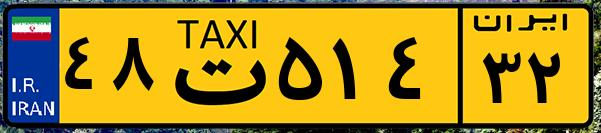1: (330, 28, 385, 110)
2: (525, 38, 570, 115)
3: (475, 38, 525, 113)
4: (385, 28, 445, 110), (57, 26, 110, 100)
5: (270, 28, 330, 110)
8: (110, 28, 158, 98)
ت: (158, 12, 270, 120)
